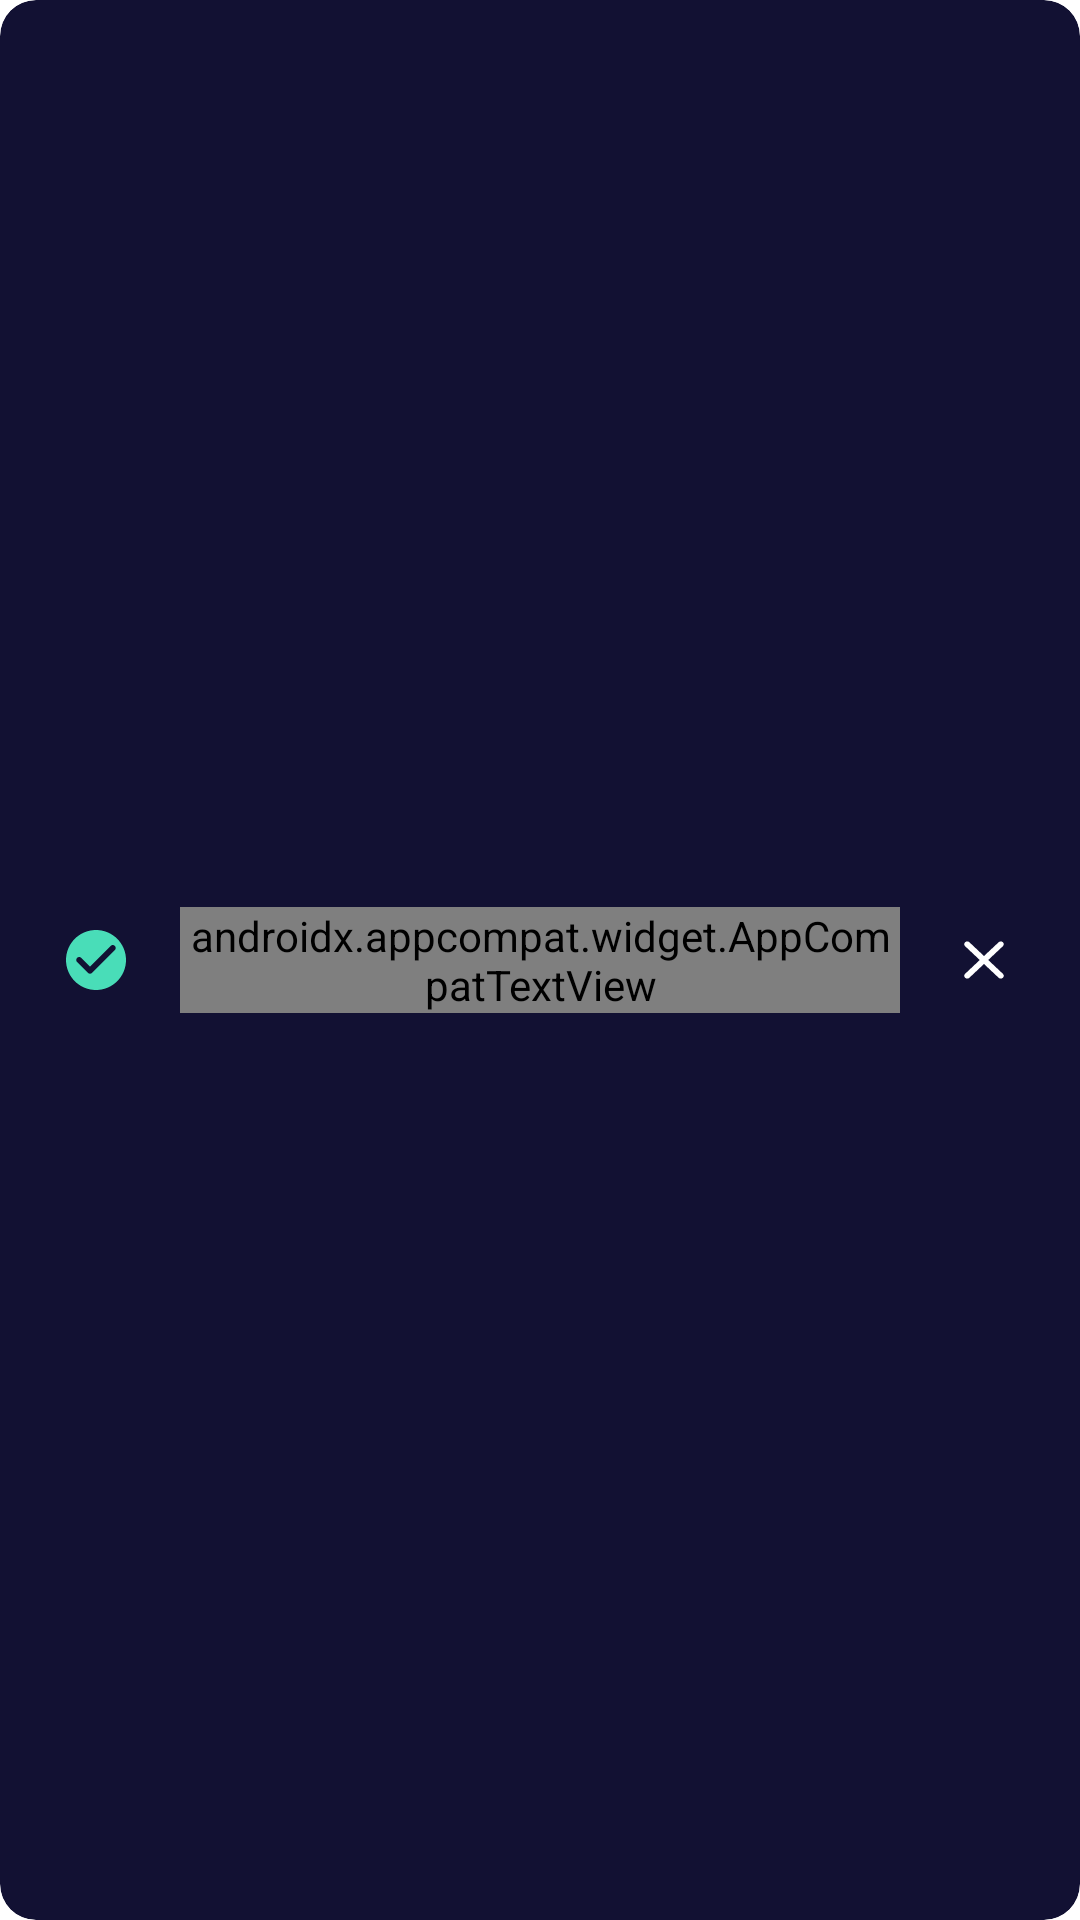

Icons on this 1080px x 1920px Android screen, each with the point to tap as (x,y):
close: (984,960)
success: (96,960)
